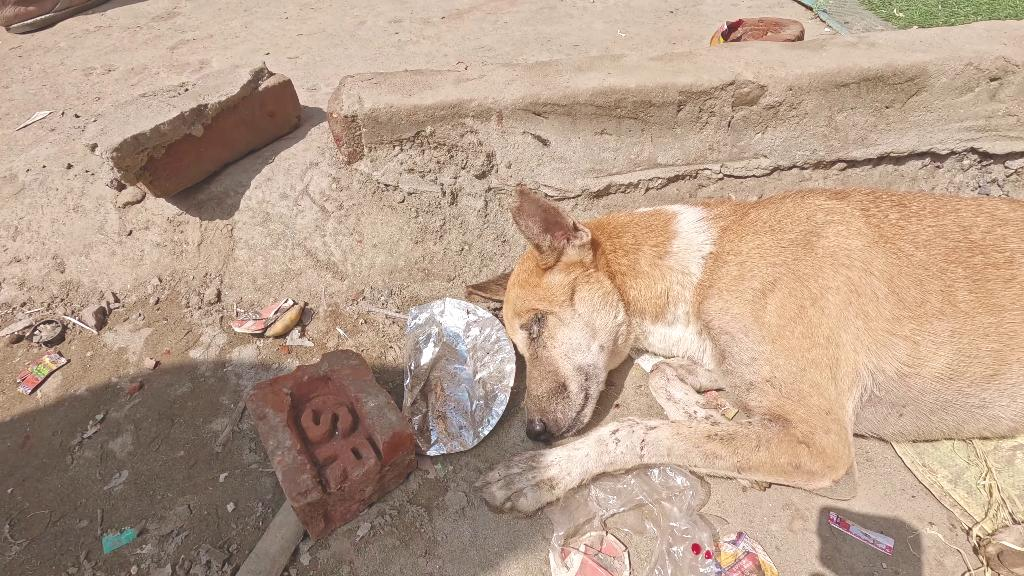garbage: (394, 291, 517, 457), (585, 471, 720, 576)
